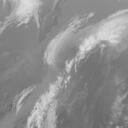cyclone: (47, 43, 81, 81)
